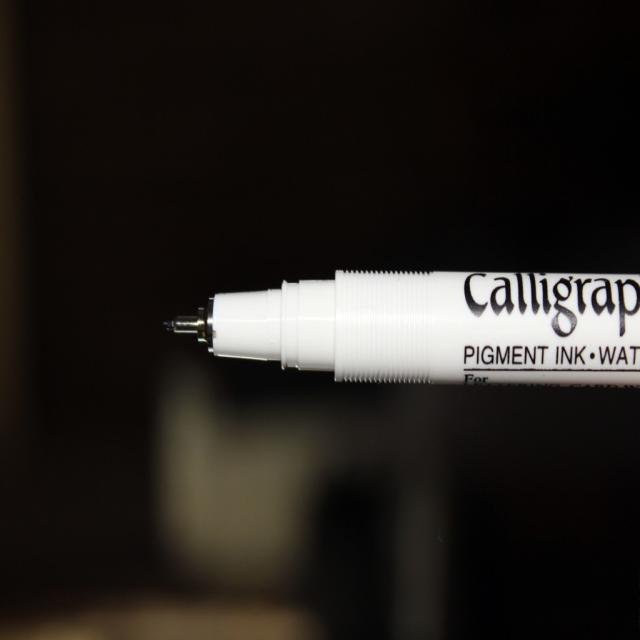pen: (167, 265, 640, 402)
